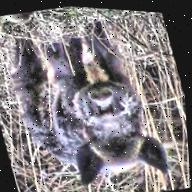boar: (0, 16, 191, 192)
